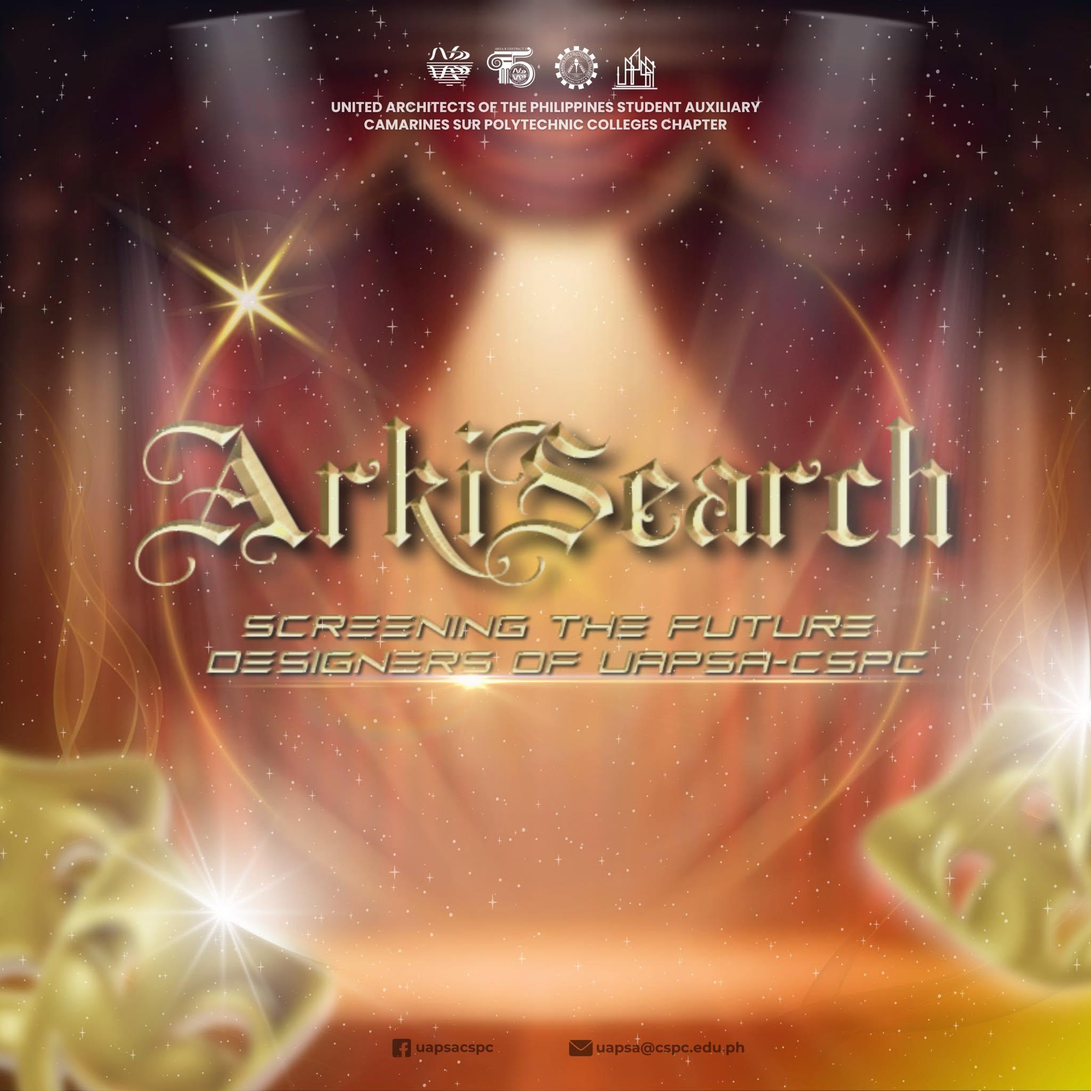embellishment: (0, 719, 350, 1090), (851, 608, 1090, 995), (163, 201, 333, 380), (565, 1032, 596, 1061), (390, 1033, 415, 1060)
logo: (610, 42, 662, 95), (420, 38, 475, 88), (481, 40, 538, 88), (549, 41, 601, 92)
text: (124, 401, 979, 693), (327, 96, 768, 136), (595, 1035, 751, 1059), (416, 1035, 499, 1057)
